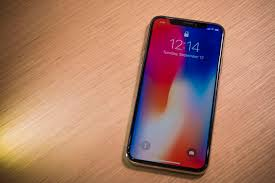iphone: (125, 10, 228, 176)
iphone10: (124, 12, 227, 178)
